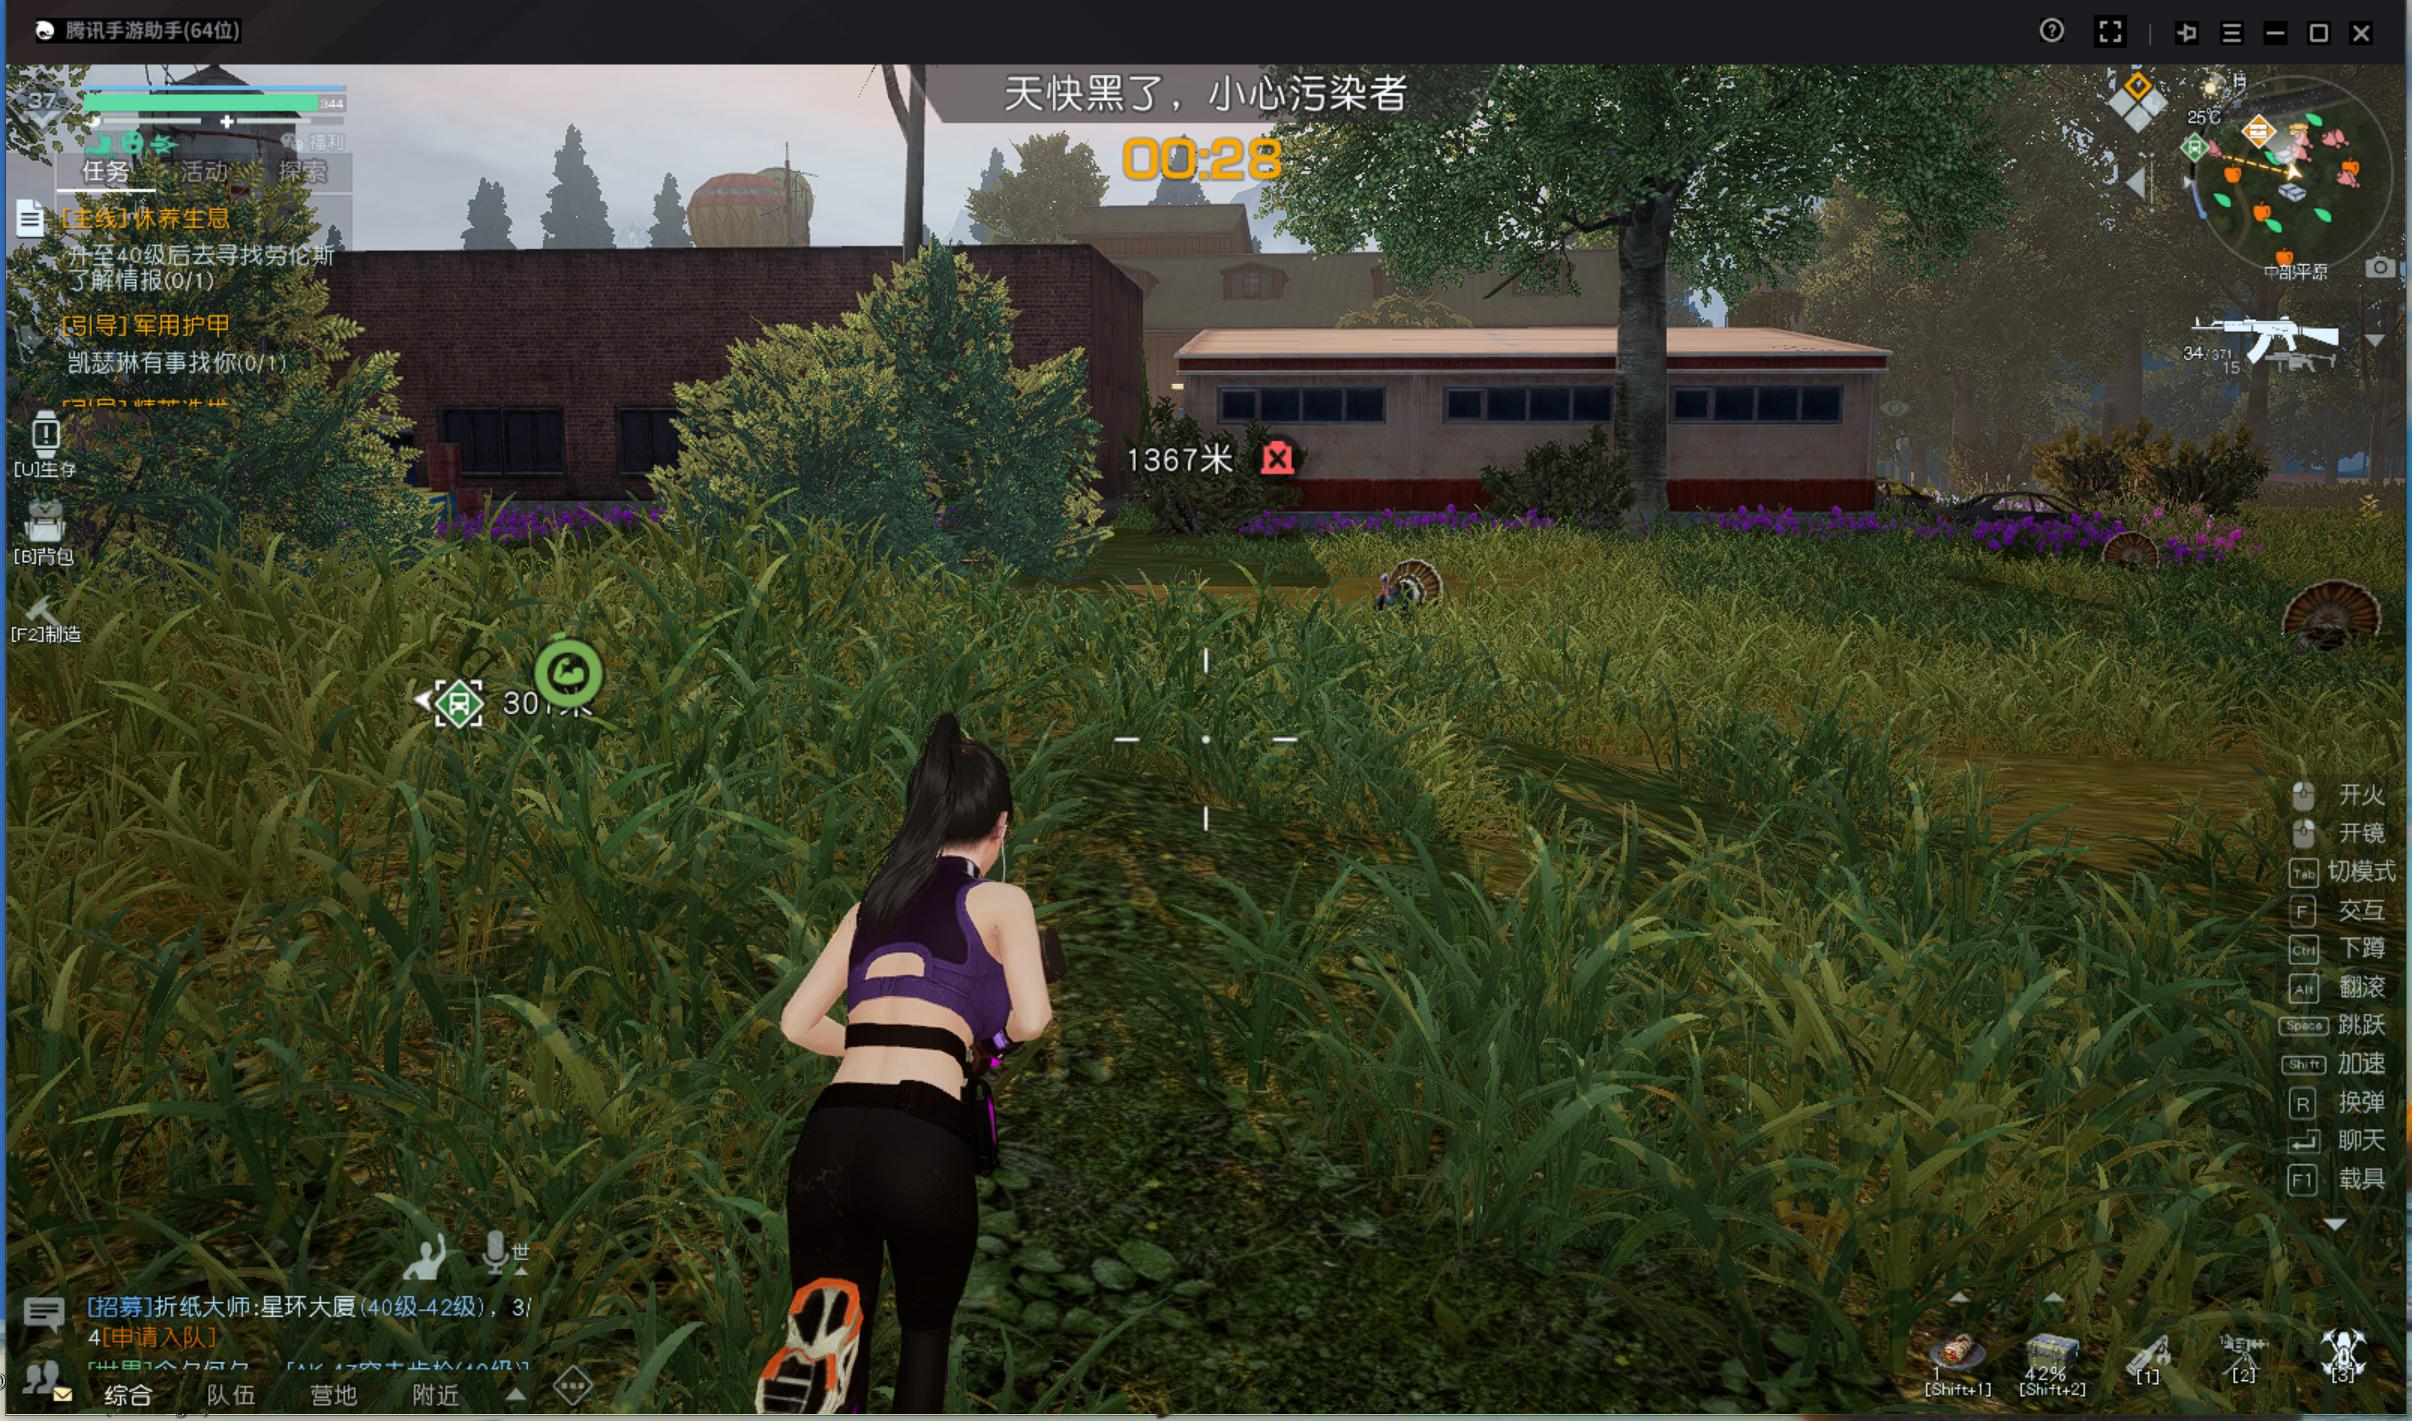tree: (1598, 266, 1691, 573)
